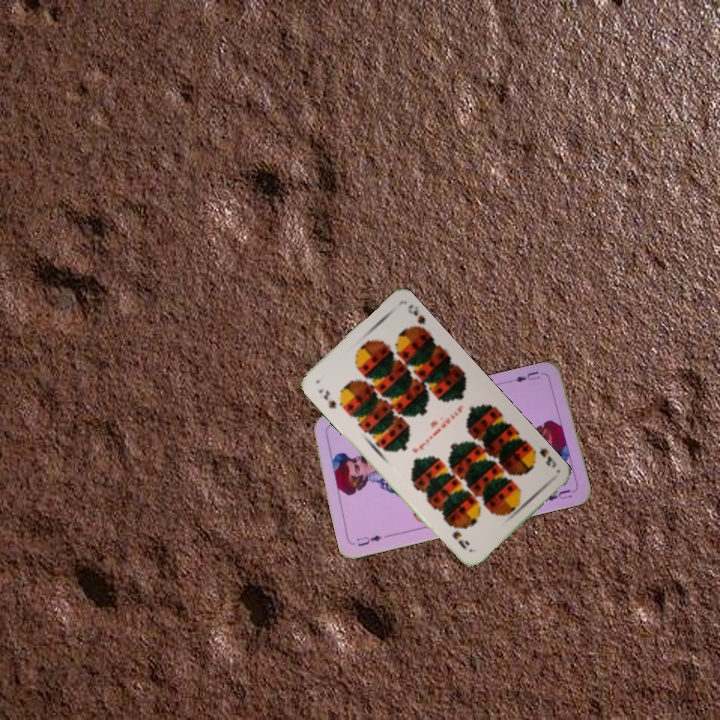EU: (352, 531, 392, 549), (511, 367, 542, 385)
S9: (525, 442, 559, 470), (314, 384, 339, 411)
